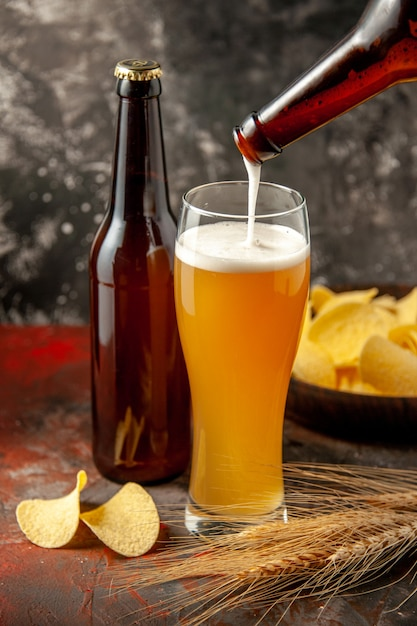alcohol: (176, 180, 315, 551), (90, 57, 197, 486), (230, 0, 417, 165)
